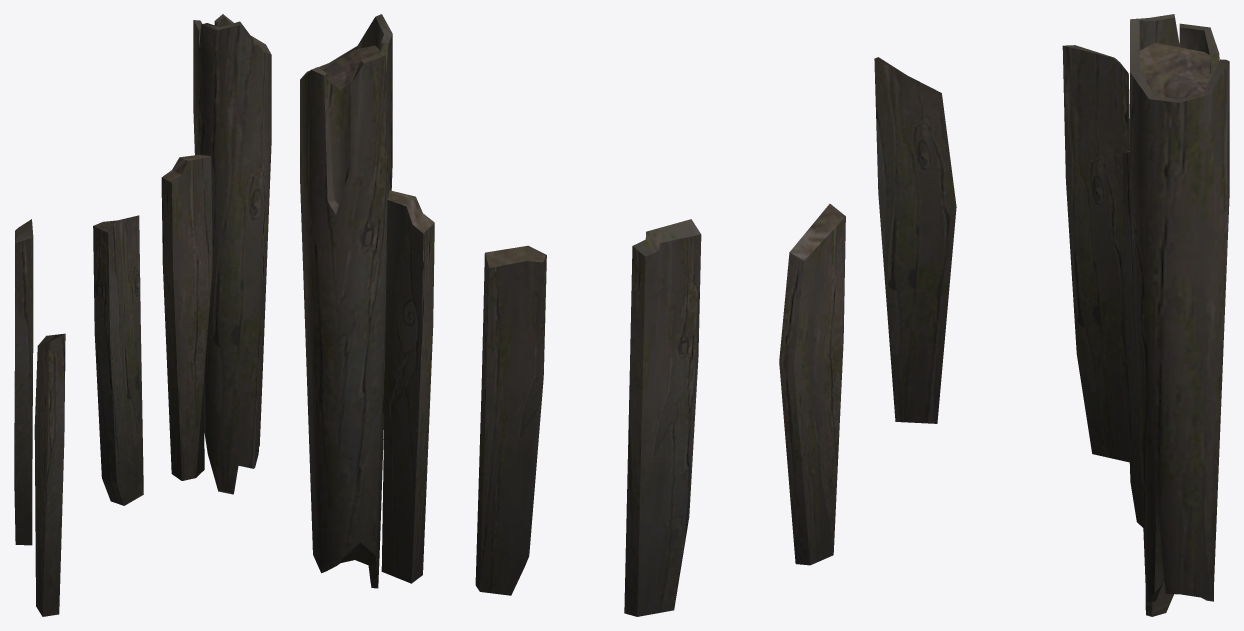
File: wood_fence001c.fbx
The picture shows the model from 3 angles, left to right: view 1: azimuth 30°, elevation 25°; view 2: azimuth 150°, elevation 25°; view 3: azimuth 270°, elevation 25°; orthographic projection. The views are drawn at different scales.
Visible parts, largest first — view 1: wood_fence001c; view 2: wood_fence001c; view 3: wood_fence001c.
Boxes of the visible parts, left/top/right/bottom form: wood_fence001c: left=14, top=14, right=271, bottom=616; wood_fence001c: left=300, top=14, right=845, bottom=616; wood_fence001c: left=874, top=14, right=1229, bottom=616.
Size of the model in its own units: 142 by 192 by 103.
